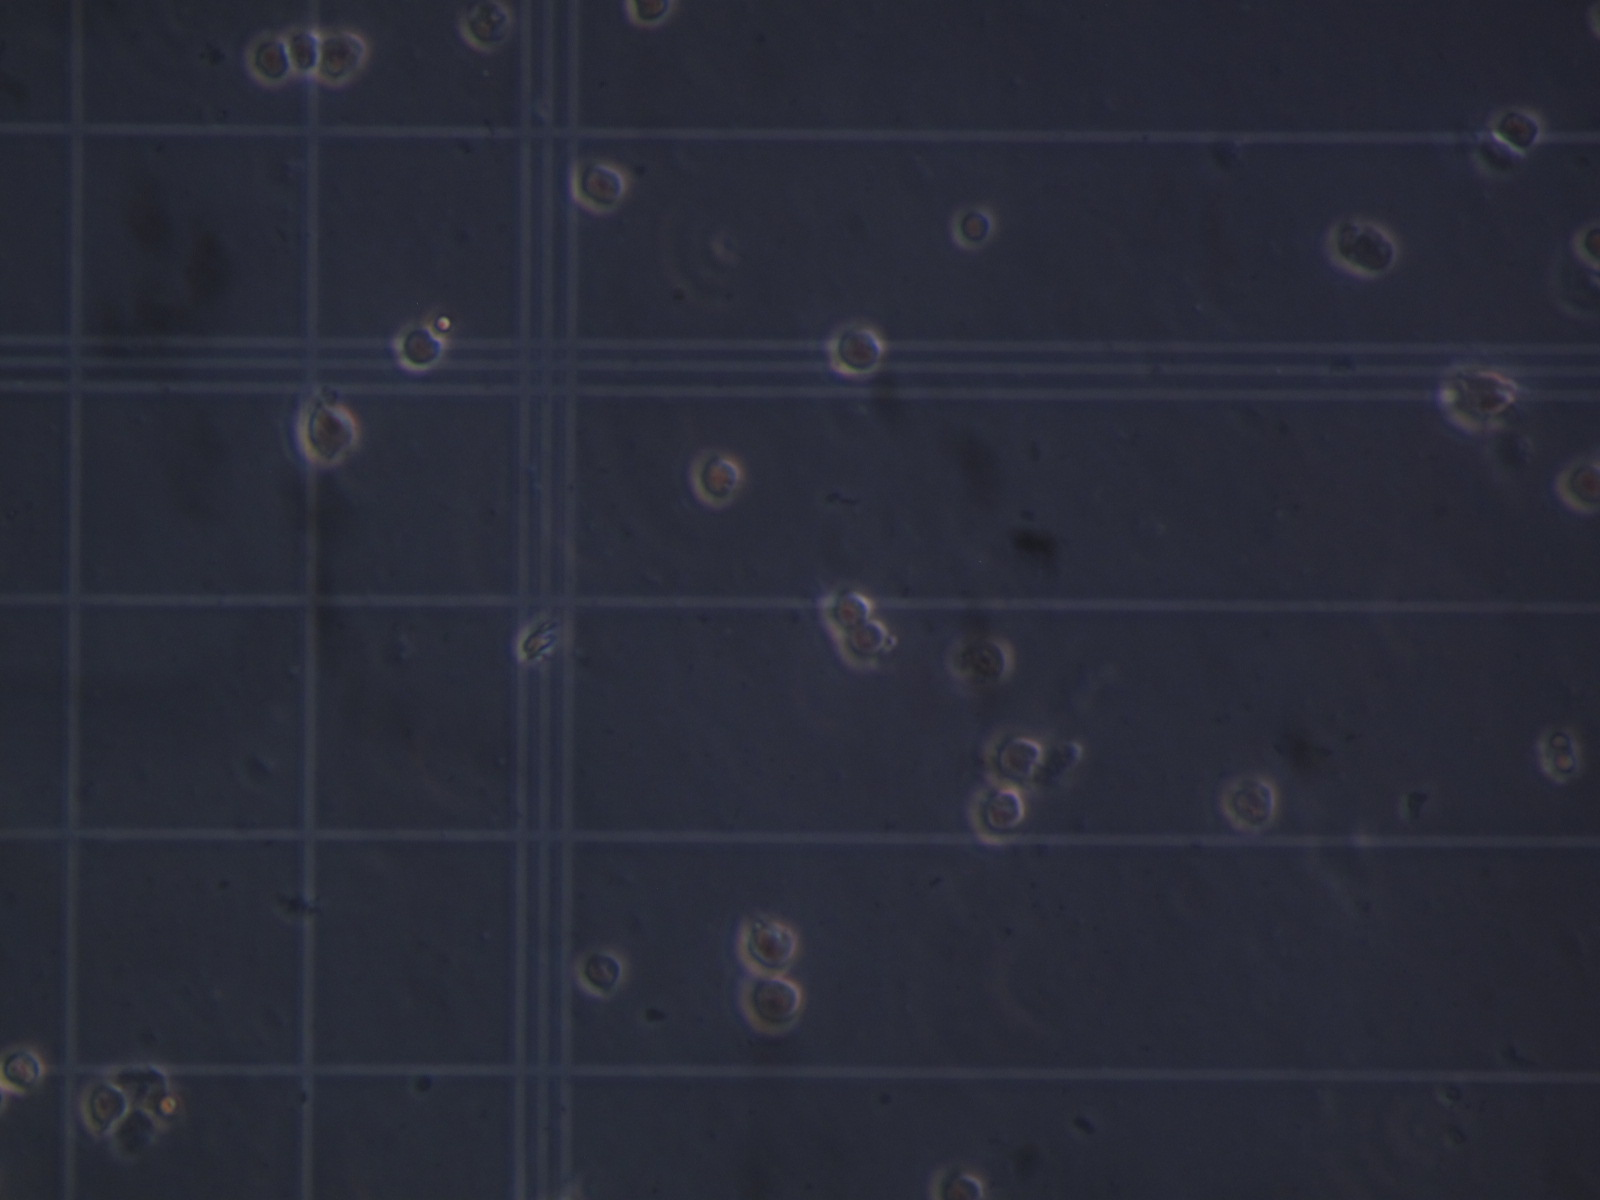hemo: (1437, 367, 1516, 430), (1329, 216, 1398, 279), (981, 725, 1043, 792), (296, 403, 360, 466), (737, 973, 803, 1035), (738, 916, 800, 978), (968, 785, 1026, 848), (947, 634, 1012, 686), (1221, 775, 1279, 832), (569, 156, 627, 212), (826, 321, 883, 377), (317, 26, 367, 89), (1487, 105, 1542, 158), (692, 453, 740, 511), (573, 945, 627, 996), (462, 1, 517, 52), (110, 1109, 160, 1161), (835, 621, 887, 671), (81, 1078, 129, 1131), (821, 587, 871, 638), (394, 321, 445, 371), (1555, 461, 1600, 516), (249, 37, 294, 87), (1, 1045, 45, 1094), (281, 26, 321, 79), (950, 204, 995, 250), (930, 1167, 986, 1200), (627, 1, 675, 29), (1577, 218, 1600, 271)
